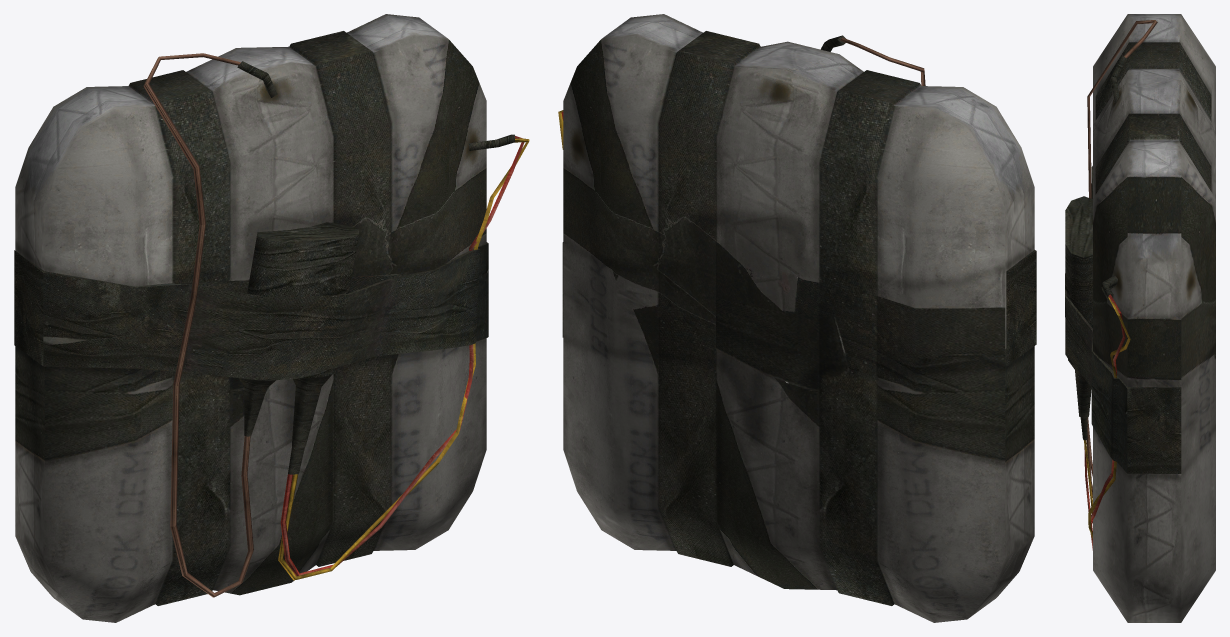
Rendered from weapon_c4_mp_LOD0.obj.
3 views of the same model, side by side, from view 1: azimuth 30°, elevation 25°; view 2: azimuth 150°, elevation 25°; view 3: azimuth 270°, elevation 25° (orthographic). The views are drawn at different scales.
Visible parts, largest first — view 1: mtl_weapon_c4; view 2: mtl_weapon_c4; view 3: mtl_weapon_c4.
Part boxes in pixels (box(x1,y1,x2,y2)): mtl_weapon_c4: box(14, 14, 529, 622); mtl_weapon_c4: box(558, 14, 1036, 622); mtl_weapon_c4: box(1065, 14, 1215, 622).
Bounding box in the file's own units: 30.84 × 33.22 × 9.19.
Materials: 1 (1 with a texture image).
